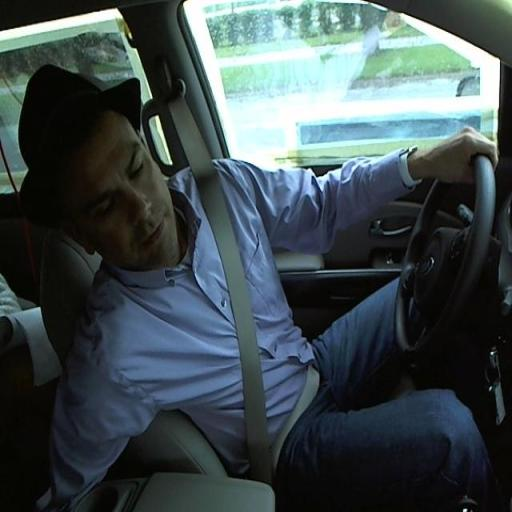turning: (43, 96, 502, 435)
